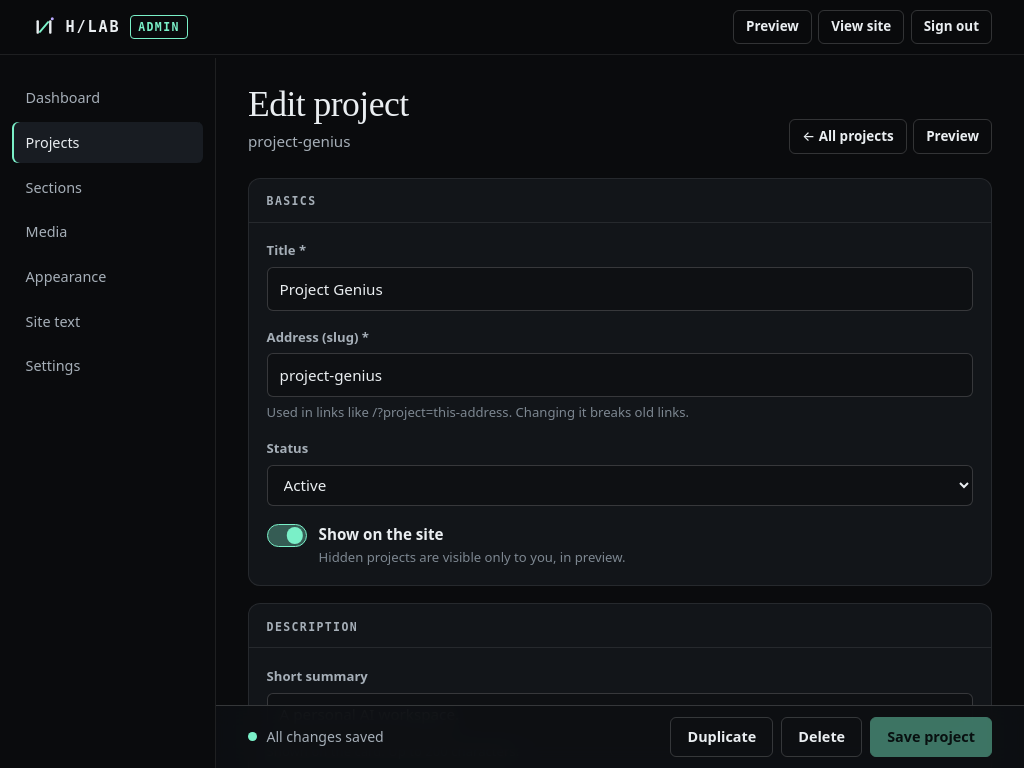
Scenario: project editing › does NOT claim success when the database rejects the save
Type " X" into the field labelled "Title *" at (620, 289), box [267,267,973,311]
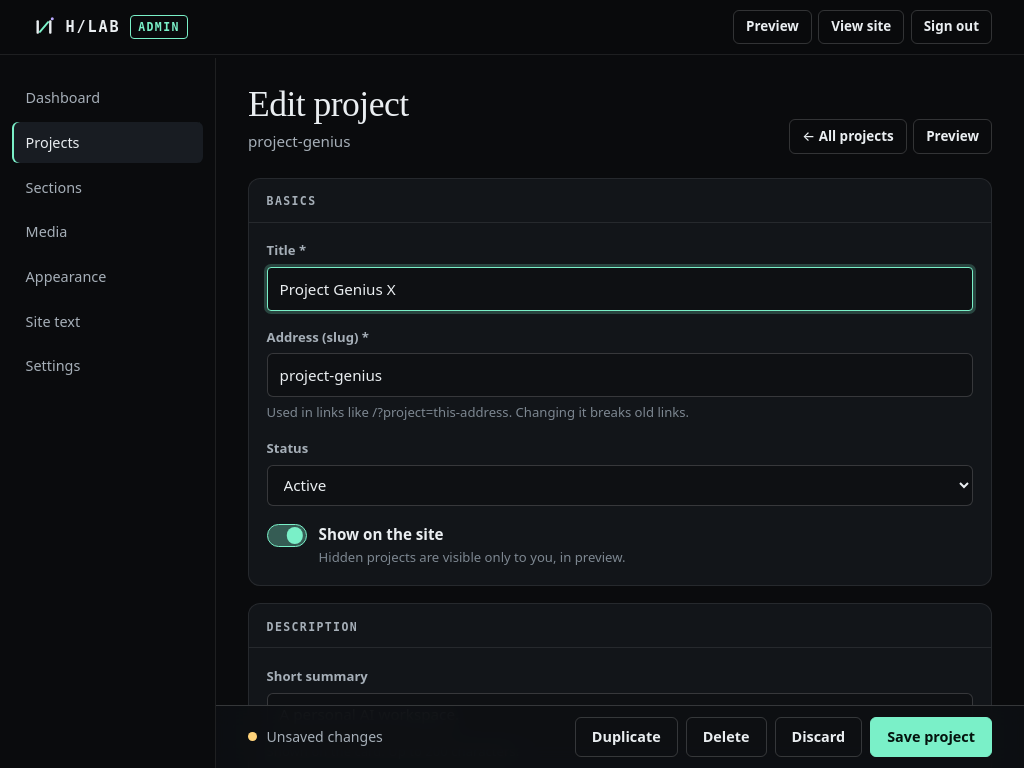
Click the button "Save project" at (931, 737), box [870,717,992,757]
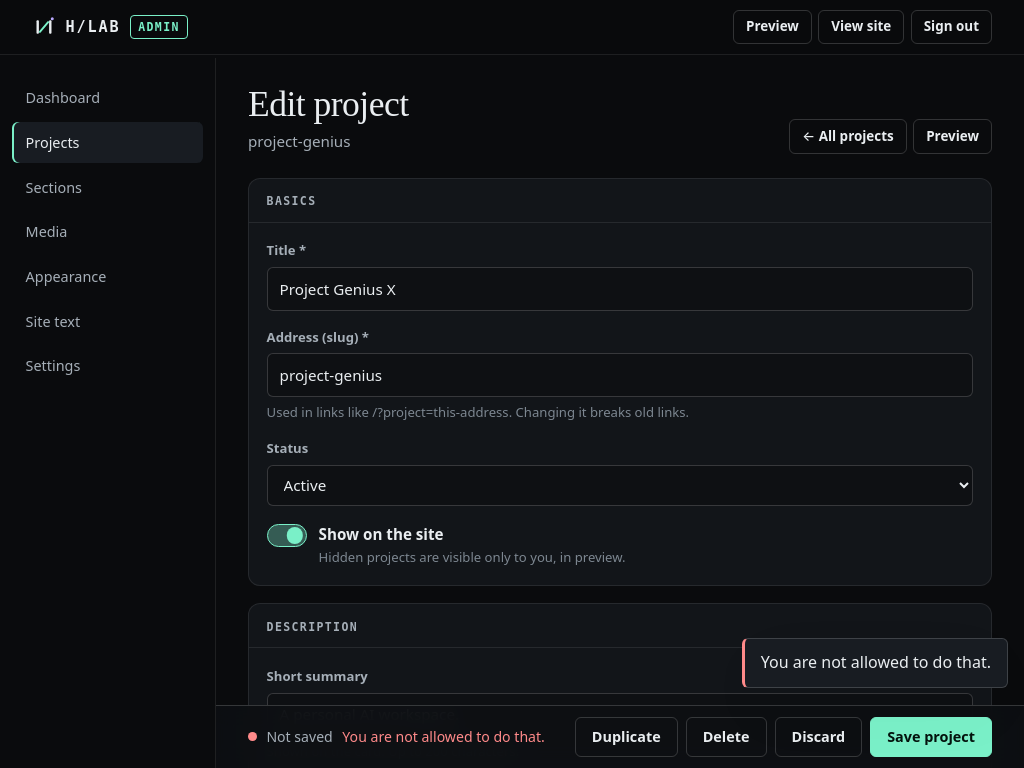
Now the field labelled "Title *" holds "Project Genius X", box [267,267,973,311]
Now the text "You are not allowed to do that." is shown, box [342,726,545,748]
